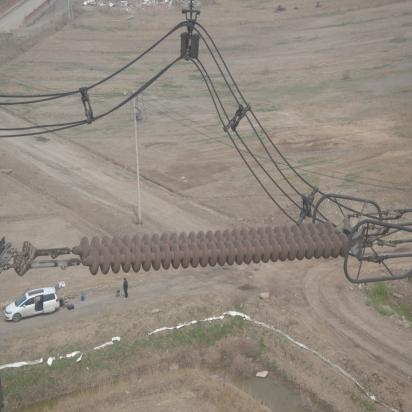insulator: (55, 218, 355, 277)
